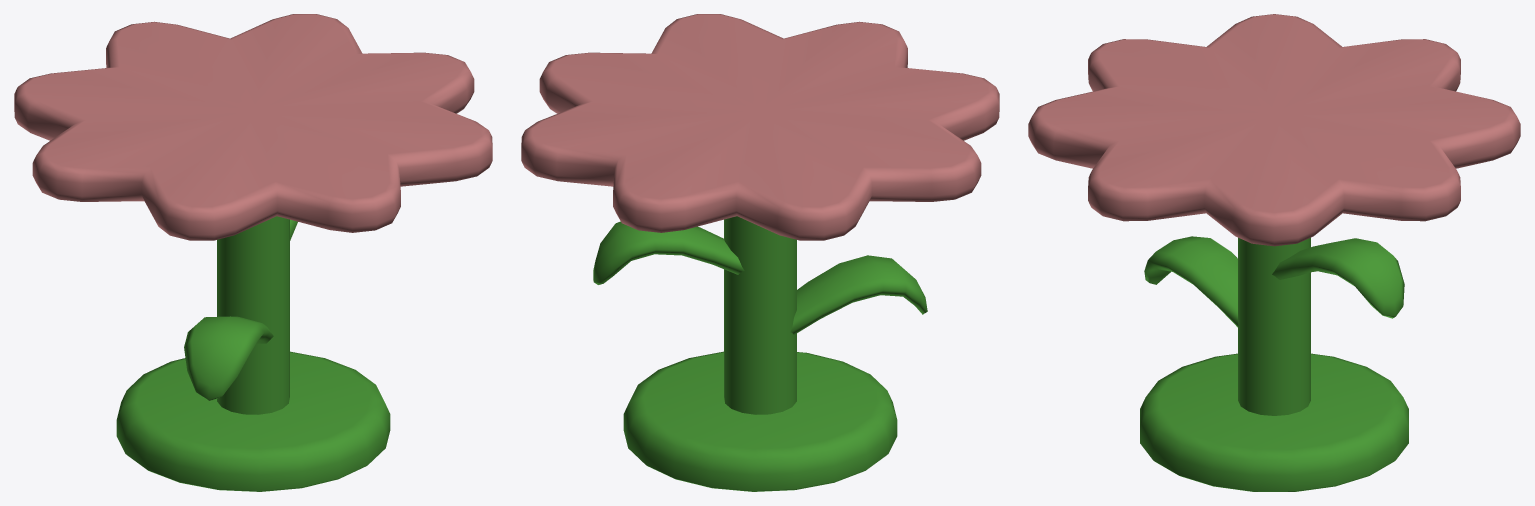
Rendered from Table_12.glb.
3 views of the same model, side by side, from view 1: azimuth 30°, elevation 25°; view 2: azimuth 150°, elevation 25°; view 3: azimuth 270°, elevation 25° (orthographic).
Parts seen in each view (by area): view 1: Table_12; view 2: Table_12; view 3: Table_12.
Boxes of the visible parts, box(x1,y1,x2,y2) form: Table_12: box(14, 14, 492, 491); Table_12: box(521, 14, 999, 491); Table_12: box(1028, 14, 1520, 491).
Size of the model in its own units: 1.04 by 0.7515 by 1.04.
Materials: 1 (1 with a texture image).
